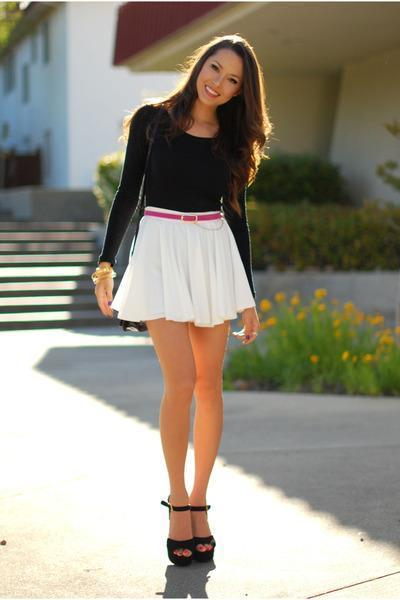shirt: (100, 101, 255, 266)
shoe: (167, 505, 215, 567)
skirt: (110, 207, 255, 326)
